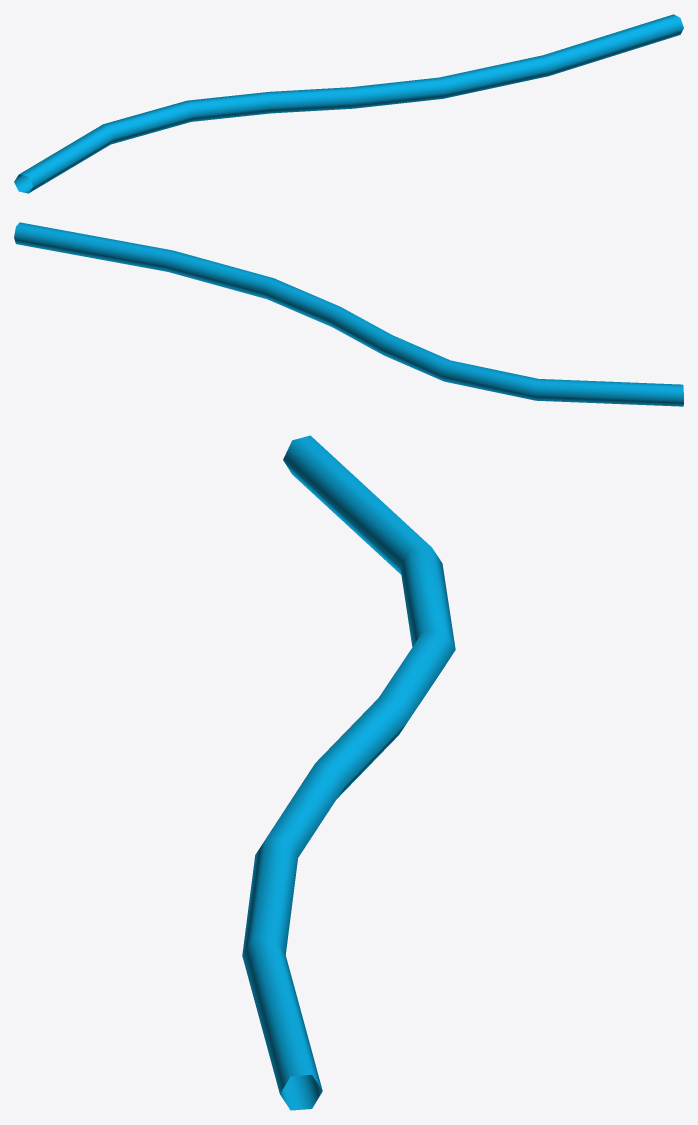
File: Cable_2.fbx
3 views of the same model, one above another, from view 1: azimuth 30°, elevation 25°; view 2: azimuth 150°, elevation 25°; view 3: azimuth 270°, elevation 25° (orthographic). The views are drawn at different scales.
Visible parts, largest first — view 1: NurbsPath; view 2: NurbsPath; view 3: NurbsPath.
Boxes of the visible parts, x1=… form: NurbsPath: x1=14, y1=14, x2=683, y2=193; NurbsPath: x1=14, y1=222, x2=683, y2=406; NurbsPath: x1=242, y1=435, x2=455, y2=1110.
Size of the model in its own units: 18.78 by 0.4642 by 2.63.
